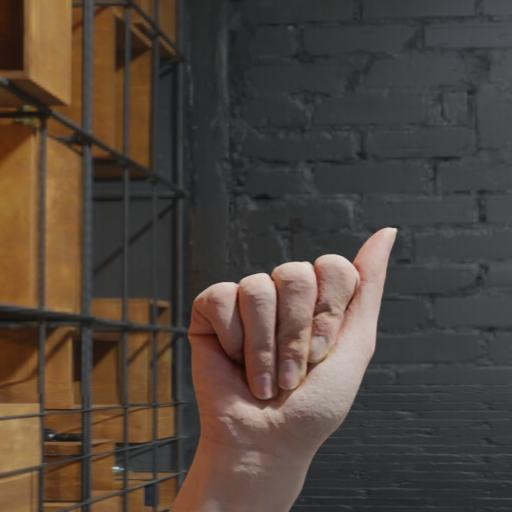A: (166, 219, 418, 512)
